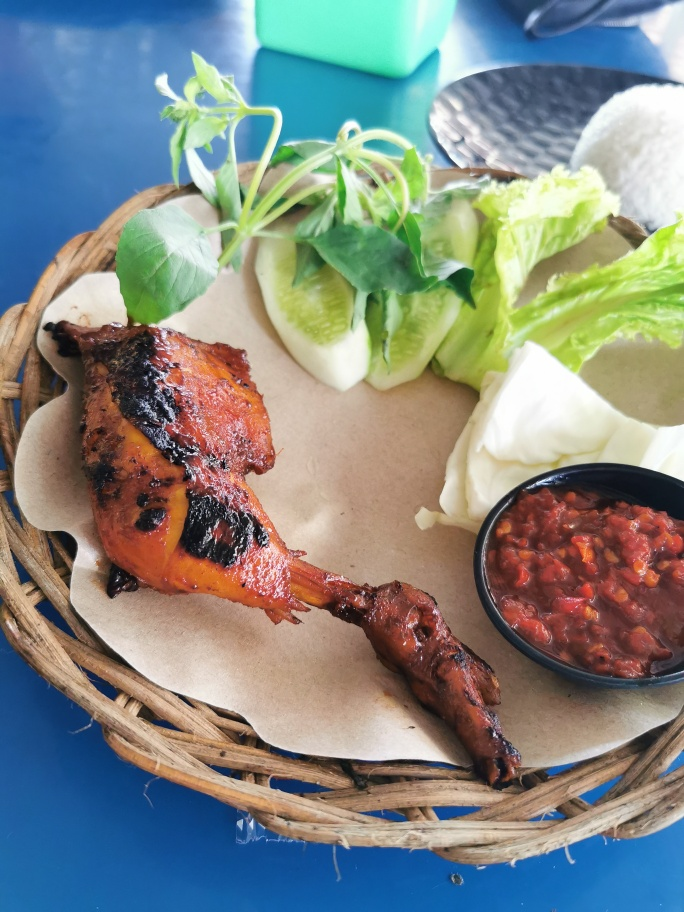ayam bakar: (48, 299, 522, 796)
